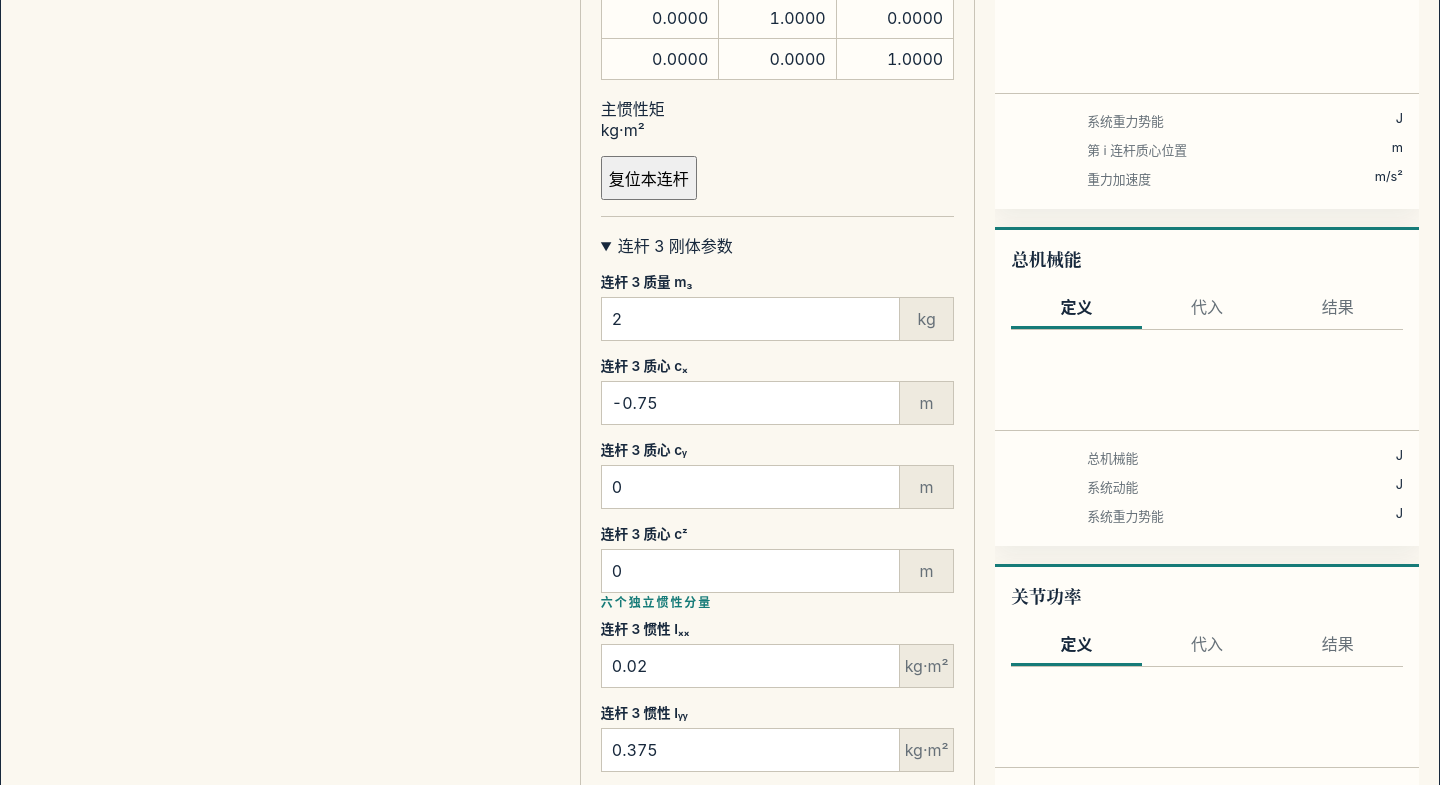
Test: DynamicsPage › rejects a center of mass outside the link range and can reset one link
(page scrolled)
Replace the text in the field labelled "连杆 3 质心 cₓ" with "-2" at (750, 403), box x1=601 y1=381 x2=900 y2=425
Then press Enter
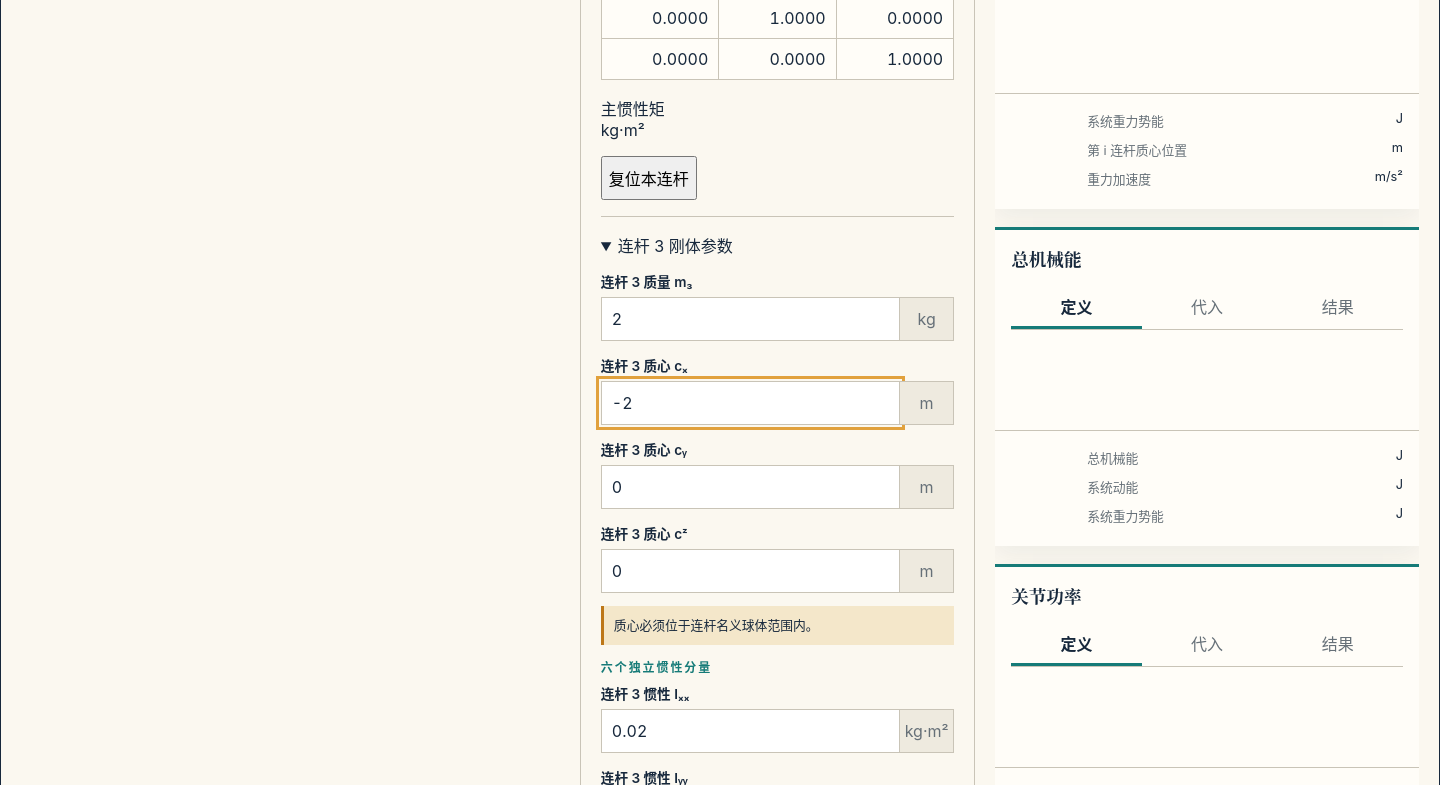
expect the text "质心必须位于连杆名义球体范围内。" is shown: met, box x1=601 y1=606 x2=954 y2=645
Replace the text in the field labelled "连杆 3 质量 m₃" with "2.8" at (750, 319), box x1=601 y1=297 x2=900 y2=341
Then press Enter
(page scrolled)
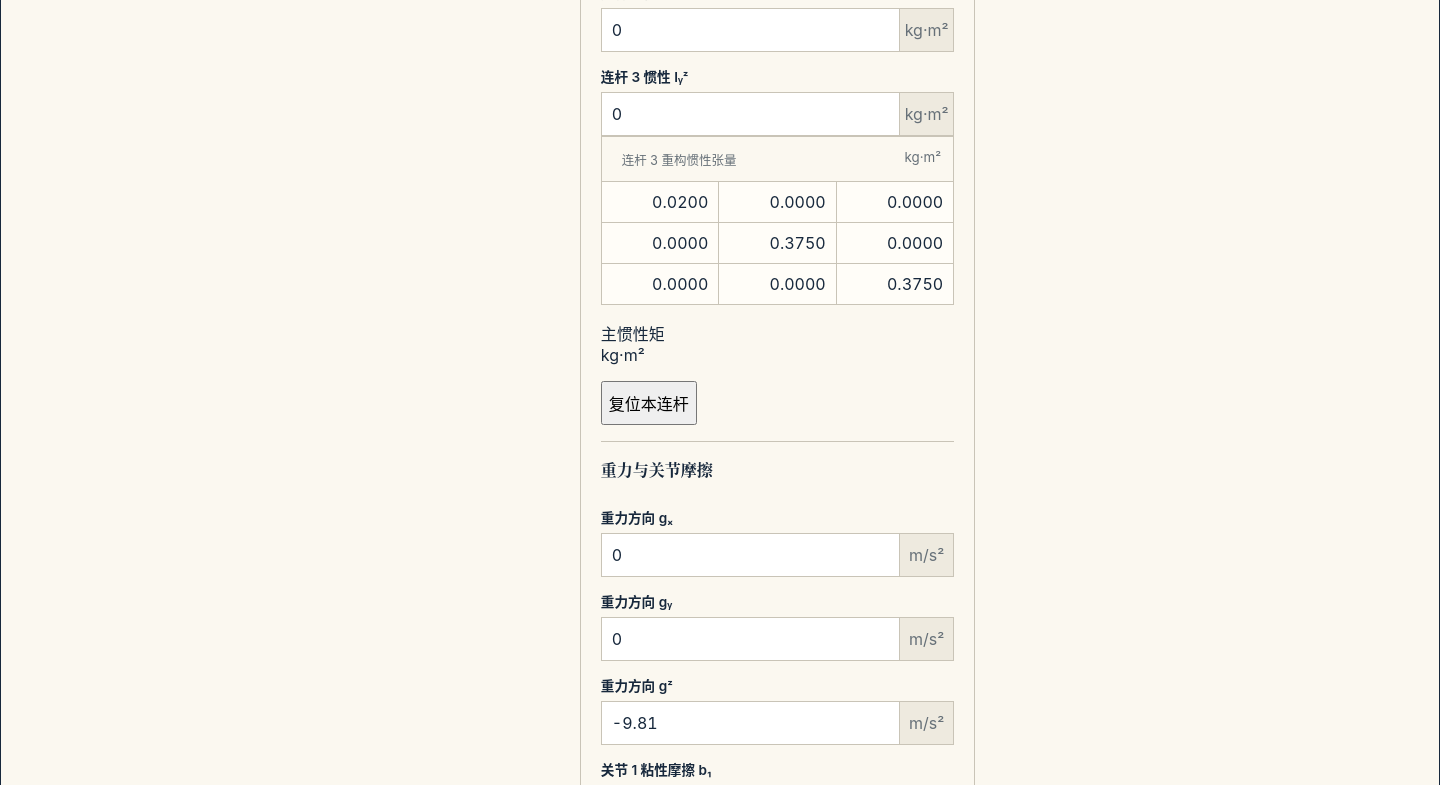
Click the button with aria-label "复位连杆 3 刚体参数".
click(649, 403)  # box x1=601 y1=381 x2=697 y2=425
(page scrolled)
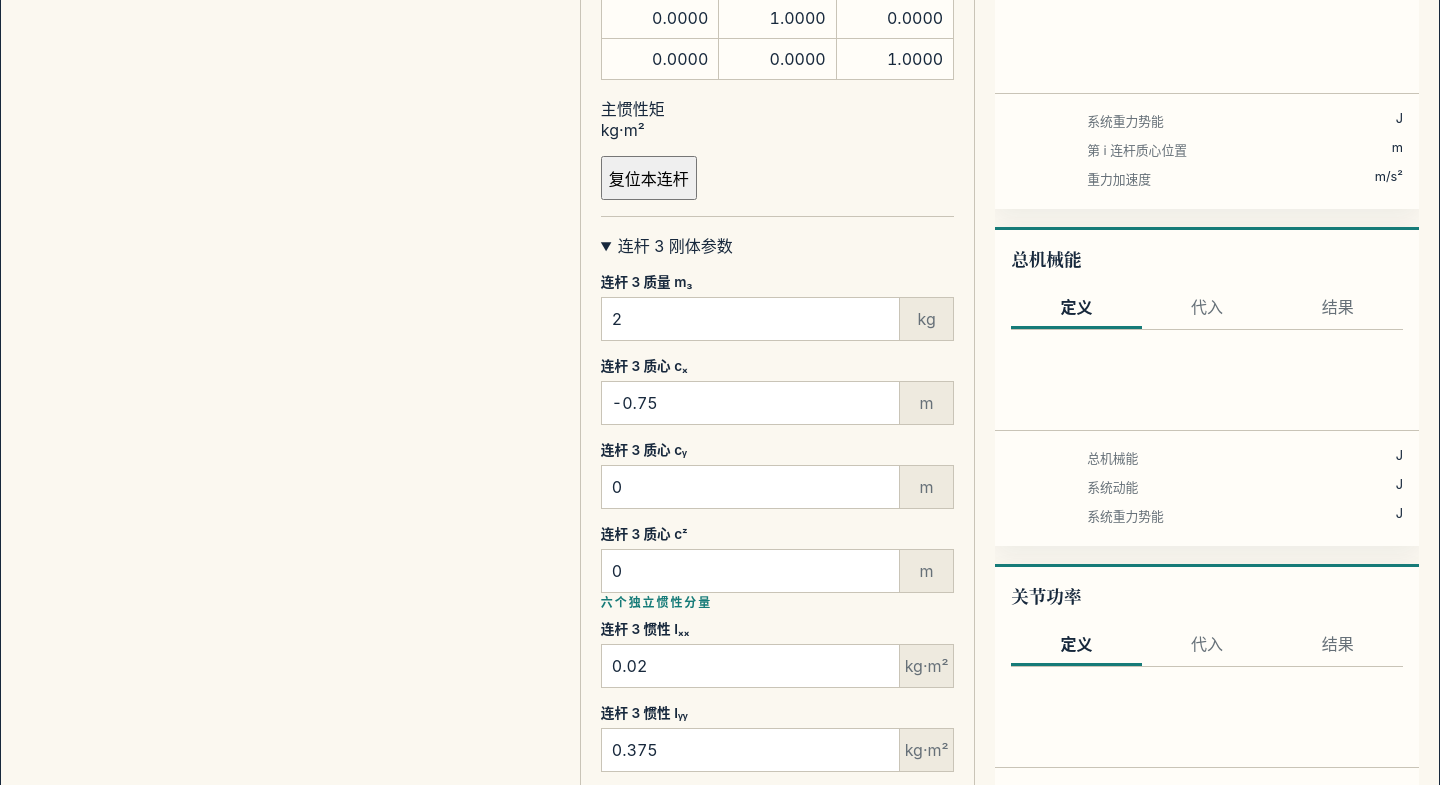
expect the field labelled "连杆 3 质心 cₓ" holds "-0.75": met, box x1=601 y1=381 x2=900 y2=425
